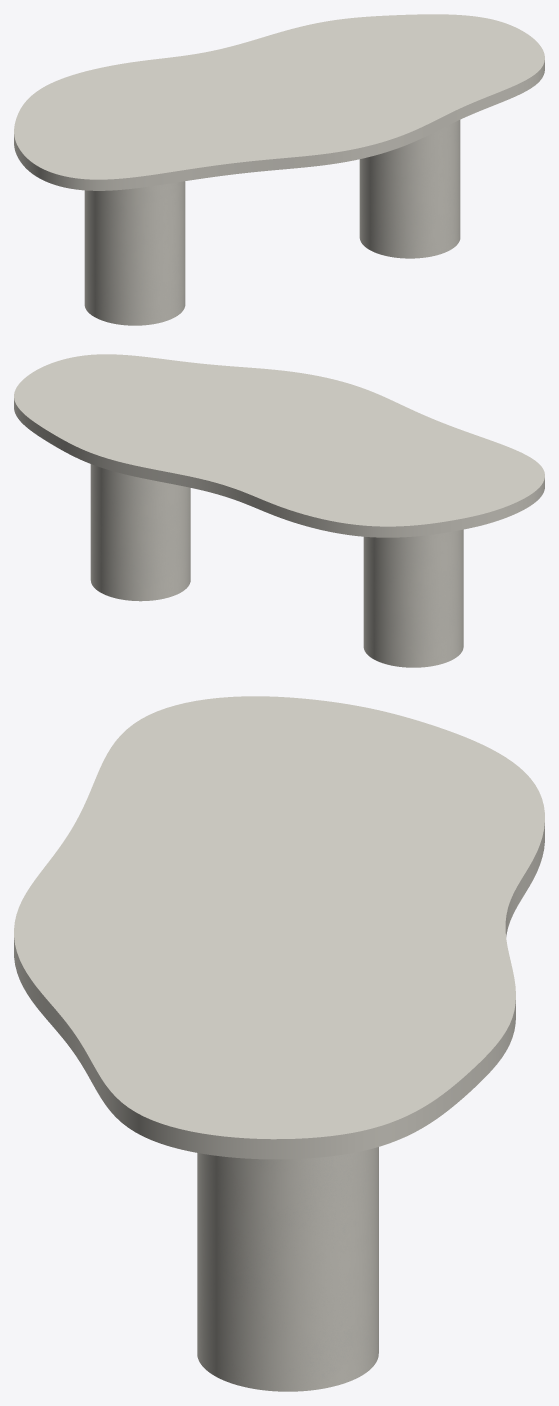
Rendered from pale_toplast_standard_stream.glb.
The picture shows the model from 3 angles, top to bottom: view 1: azimuth 30°, elevation 25°; view 2: azimuth 150°, elevation 25°; view 3: azimuth 270°, elevation 25°; orthographic projection. The views are drawn at different scales.
Visible parts, largest first — view 1: standard_toplast, stream; view 2: standard_toplast, stream; view 3: standard_toplast, stream.
Part boxes in pixels (left/top/right/bottom): standard_toplast: left=14, top=14, right=544, bottom=190; stream: left=84, top=120, right=460, bottom=325; standard_toplast: left=14, top=354, right=544, bottom=537; stream: left=90, top=464, right=463, bottom=667; standard_toplast: left=14, top=696, right=544, bottom=1159; stream: left=197, top=1147, right=378, bottom=1391.
Size of the model in its own units: 7.5 by 2.5 by 3.8.
1 material, 1 textured.
